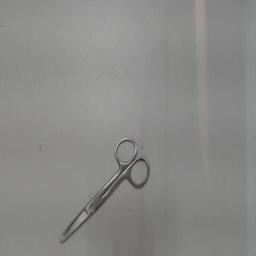Dressing Scissors: (55, 130, 157, 250)
